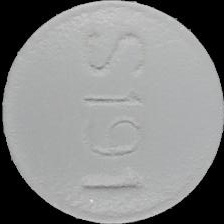54868-5273: (0, 0, 224, 224)
